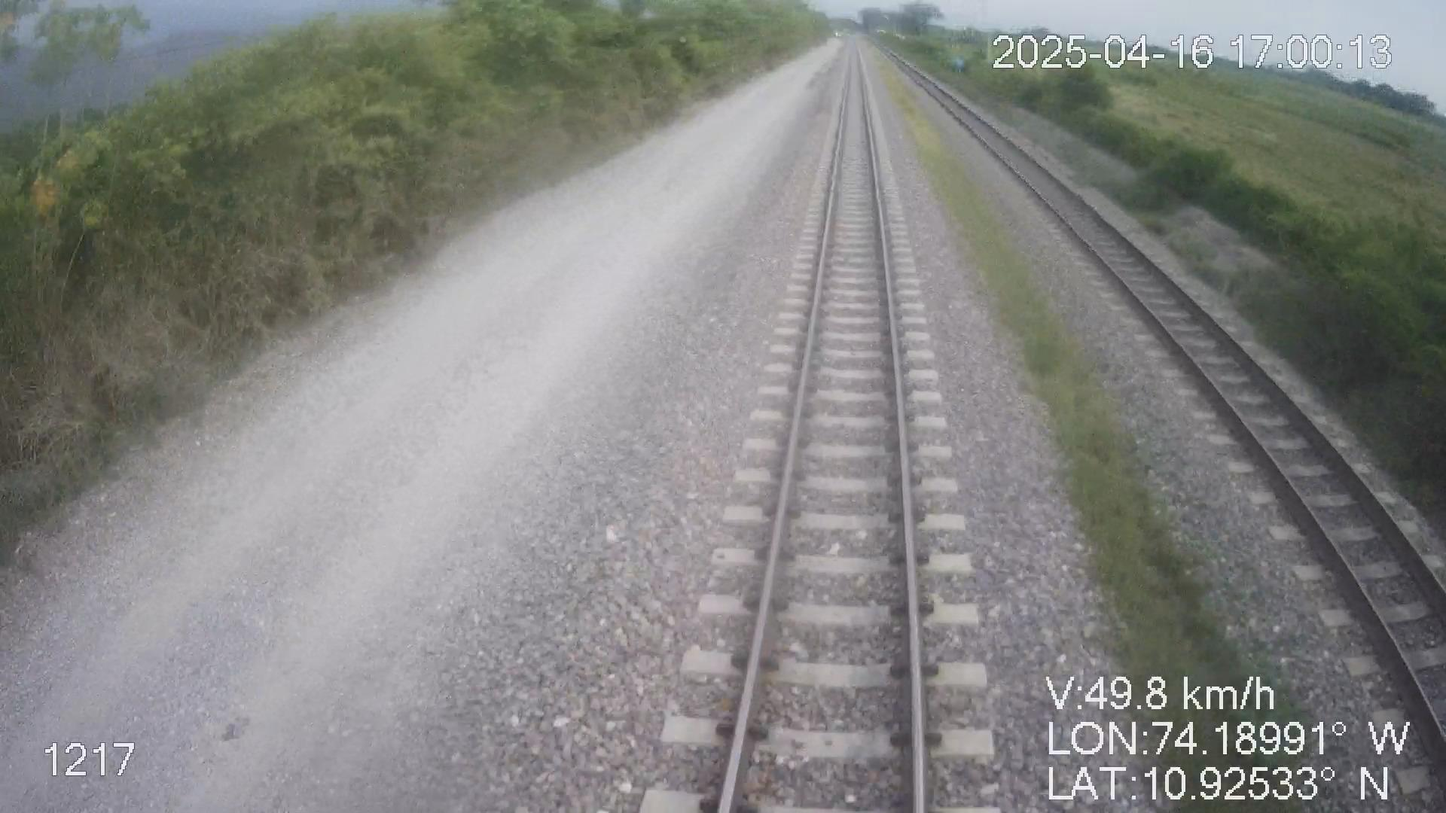Pasto: (0, 0, 838, 572), (884, 26, 1445, 595)
